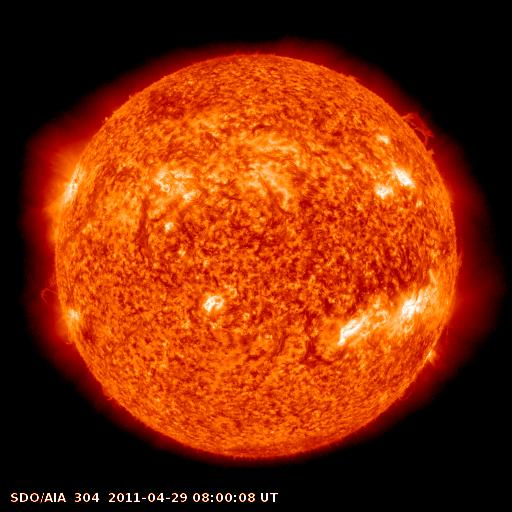prominence: (396, 104, 439, 160), (35, 271, 71, 313), (449, 234, 472, 277), (94, 376, 120, 406)
